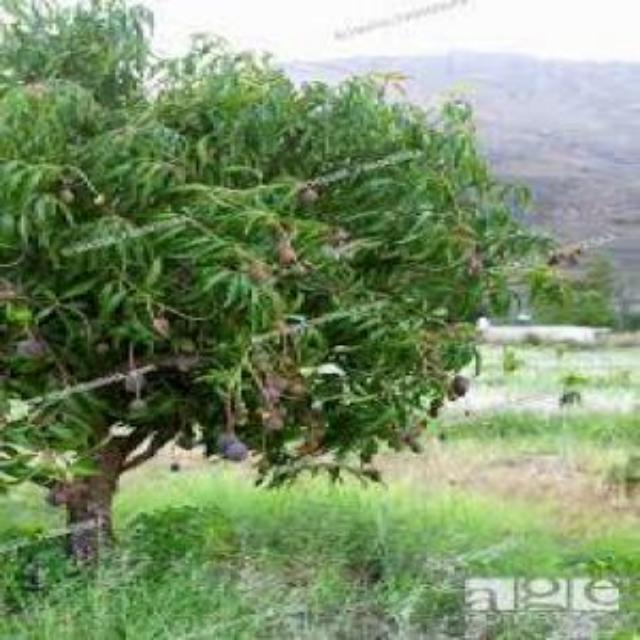tree: (1, 3, 530, 591)
